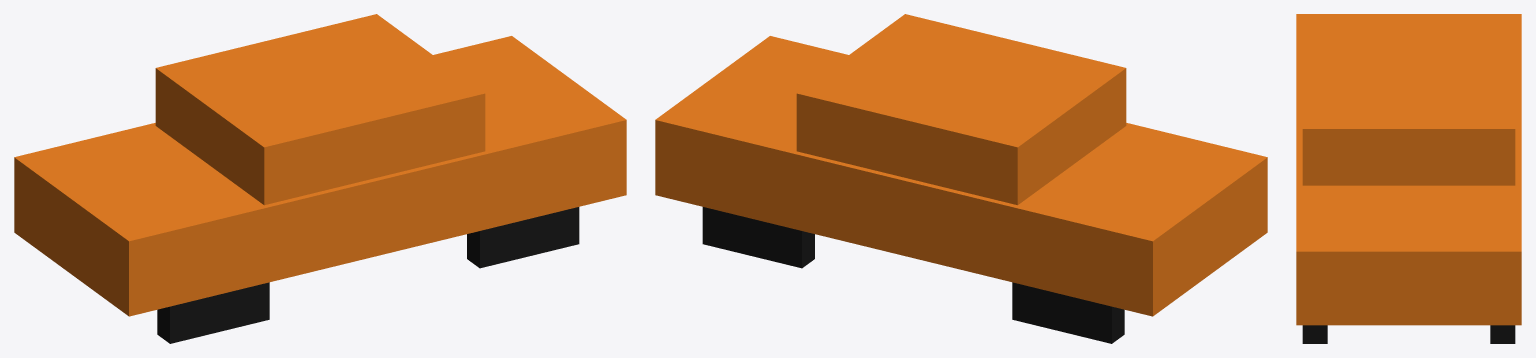
Rendered from blk_vehicle_car.glb.
3 views of the same model, side by side, from view 1: azimuth 30°, elevation 25°; view 2: azimuth 150°, elevation 25°; view 3: azimuth 270°, elevation 25° (orthographic). The views are drawn at different scales.
Parts seen in each view (by area): view 1: blk_vehicle_car-col; view 2: blk_vehicle_car-col; view 3: blk_vehicle_car-col.
Part boxes in pixels (bbox=[...]): blk_vehicle_car-col: bbox=[14, 14, 626, 343]; blk_vehicle_car-col: bbox=[655, 14, 1267, 343]; blk_vehicle_car-col: bbox=[1296, 14, 1521, 343].
Bounding box in the file's own units: 4.5 × 1.5 × 1.8.
